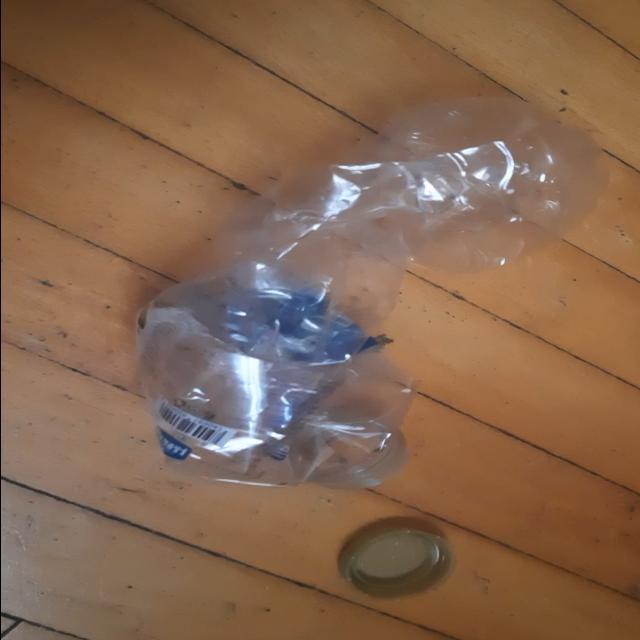Plastic: (136, 97, 610, 489)
